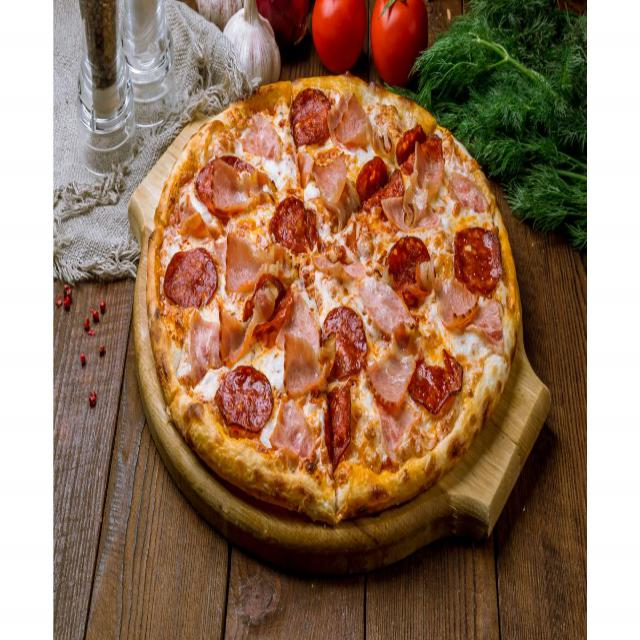pizza: (147, 76, 518, 527)
